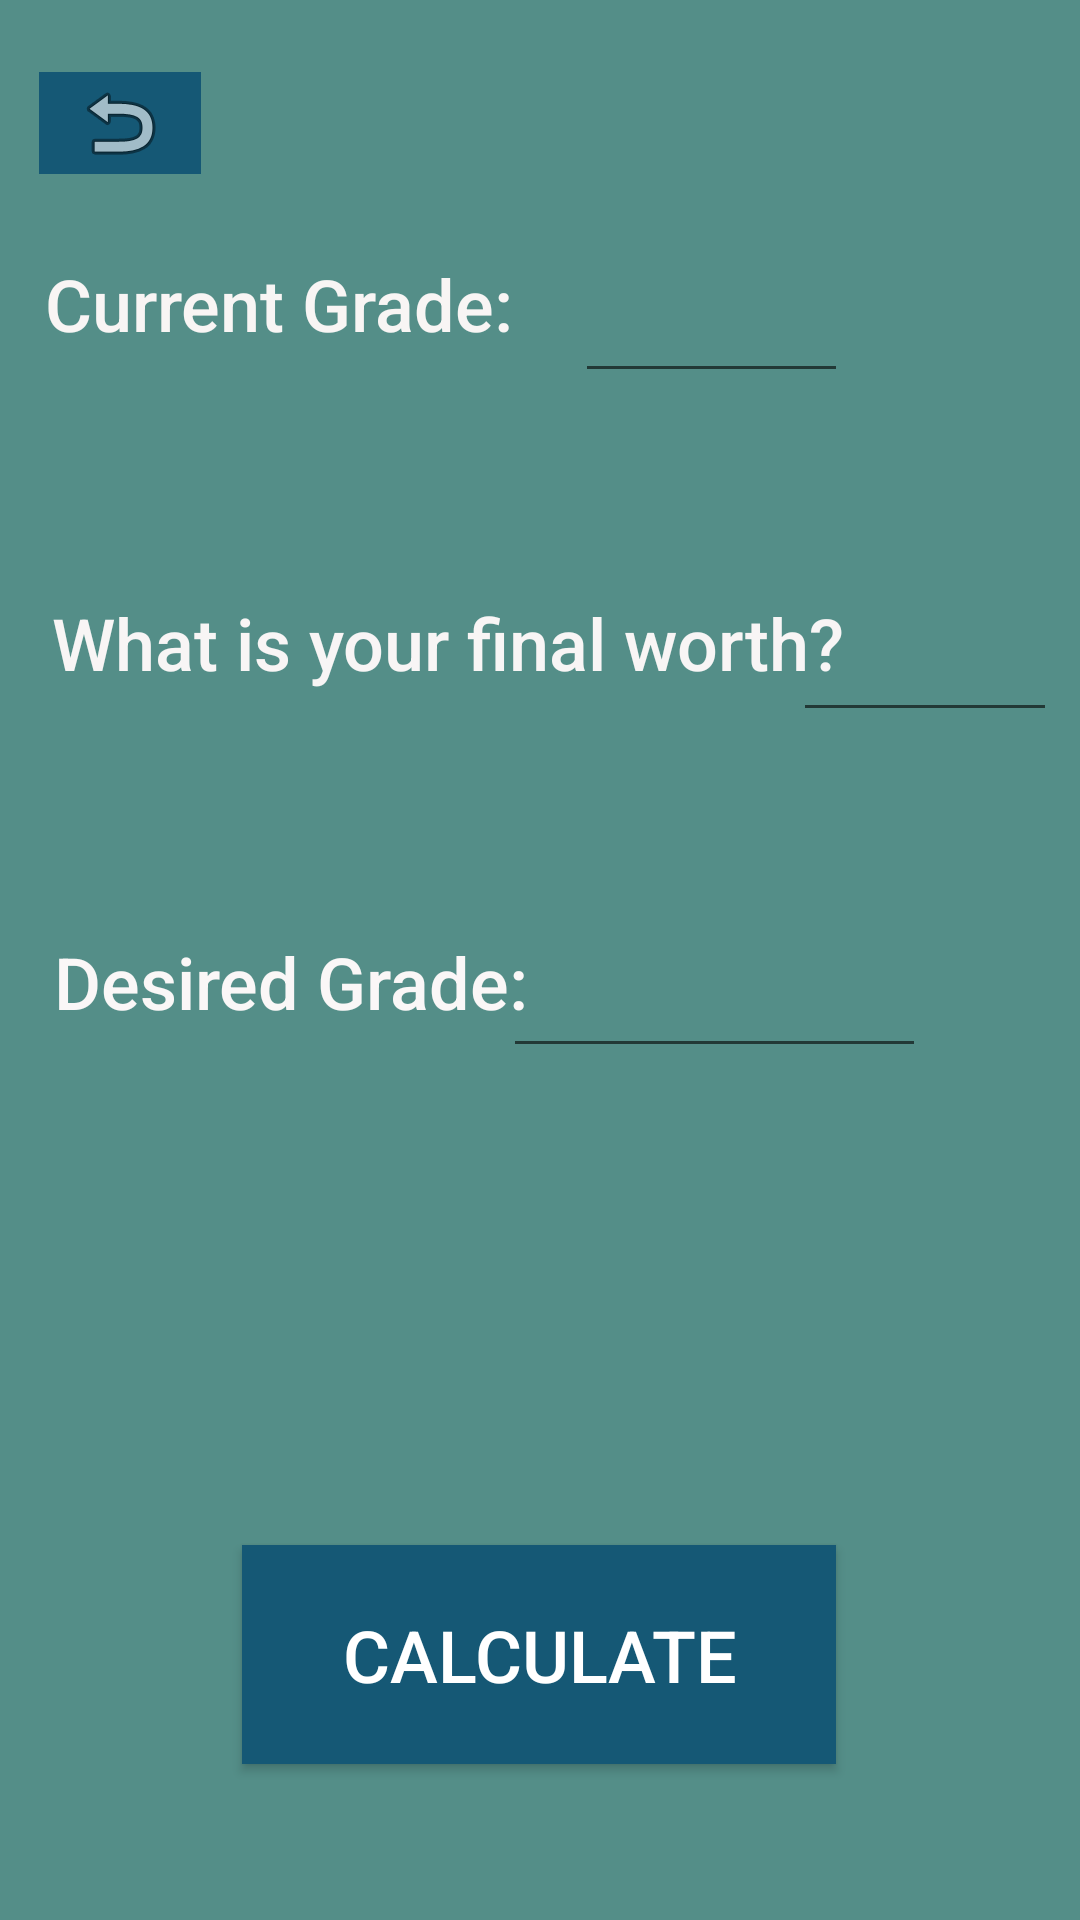

Icon click points for this 1080*1920 phone screenshot, format point (x, y):
revert: point (120, 123)
